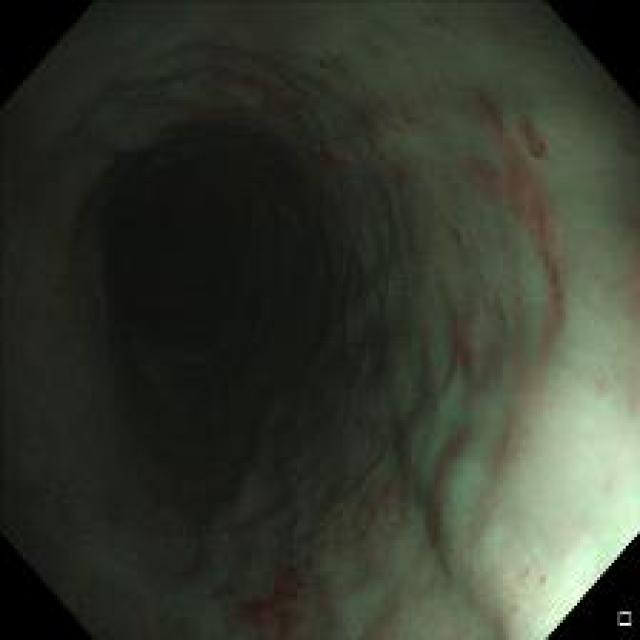contrast: (2, 94, 330, 630)
